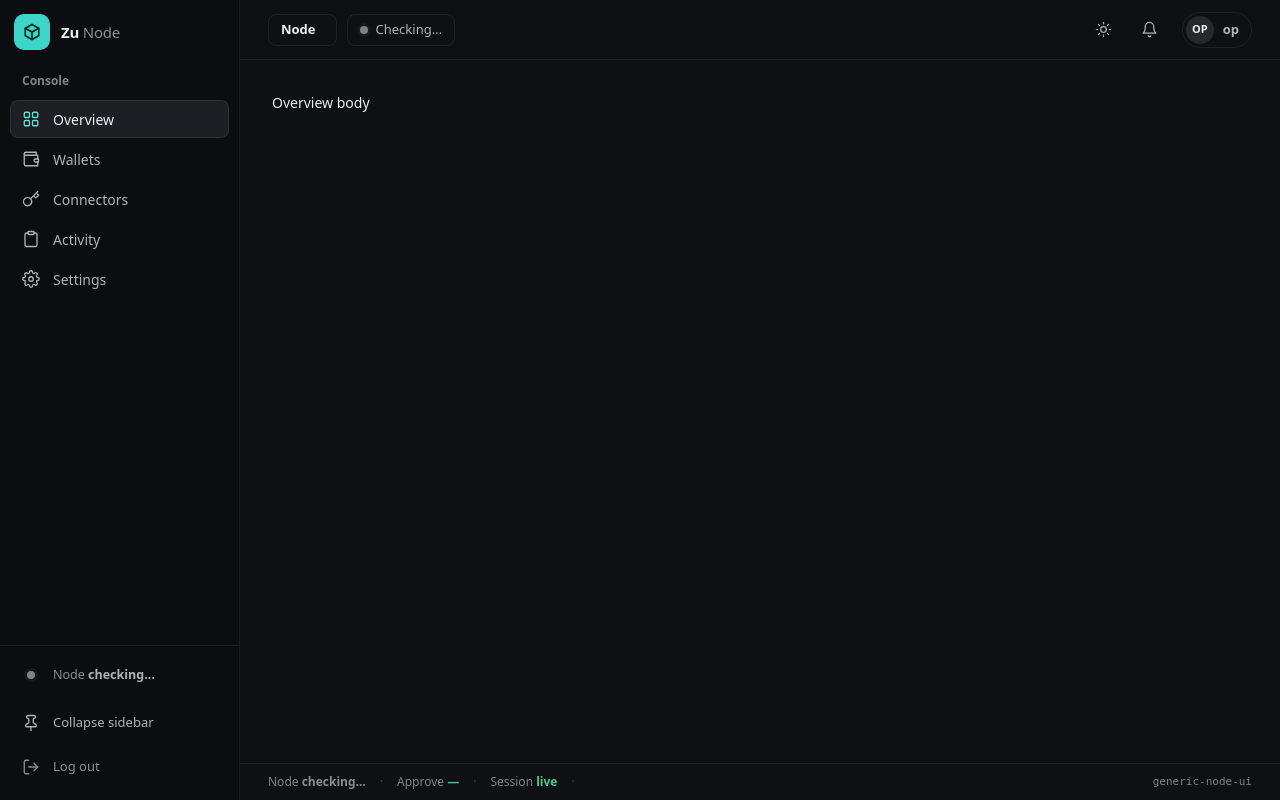
Test: node health chrome — real /health/ready, no hard-coded Healthy › Notifications button is genuinely wired: navigates to Approve inbox
This screenshot has width=1280, height=800.
Step 1. Click the button titled "Approve inbox" → (1150, 30), box [1132,12,1168,48]
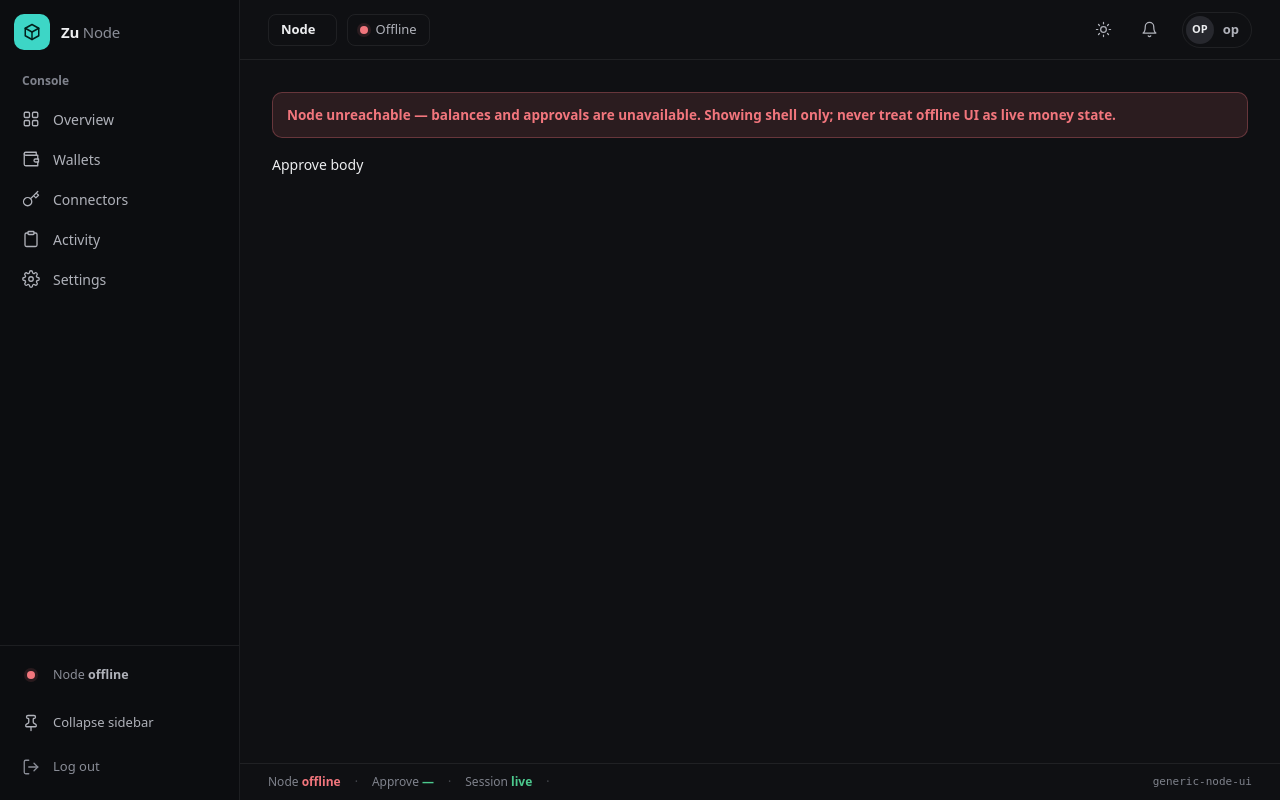
Expected: the text "Approve body" is shown, [272,155,363,174]
